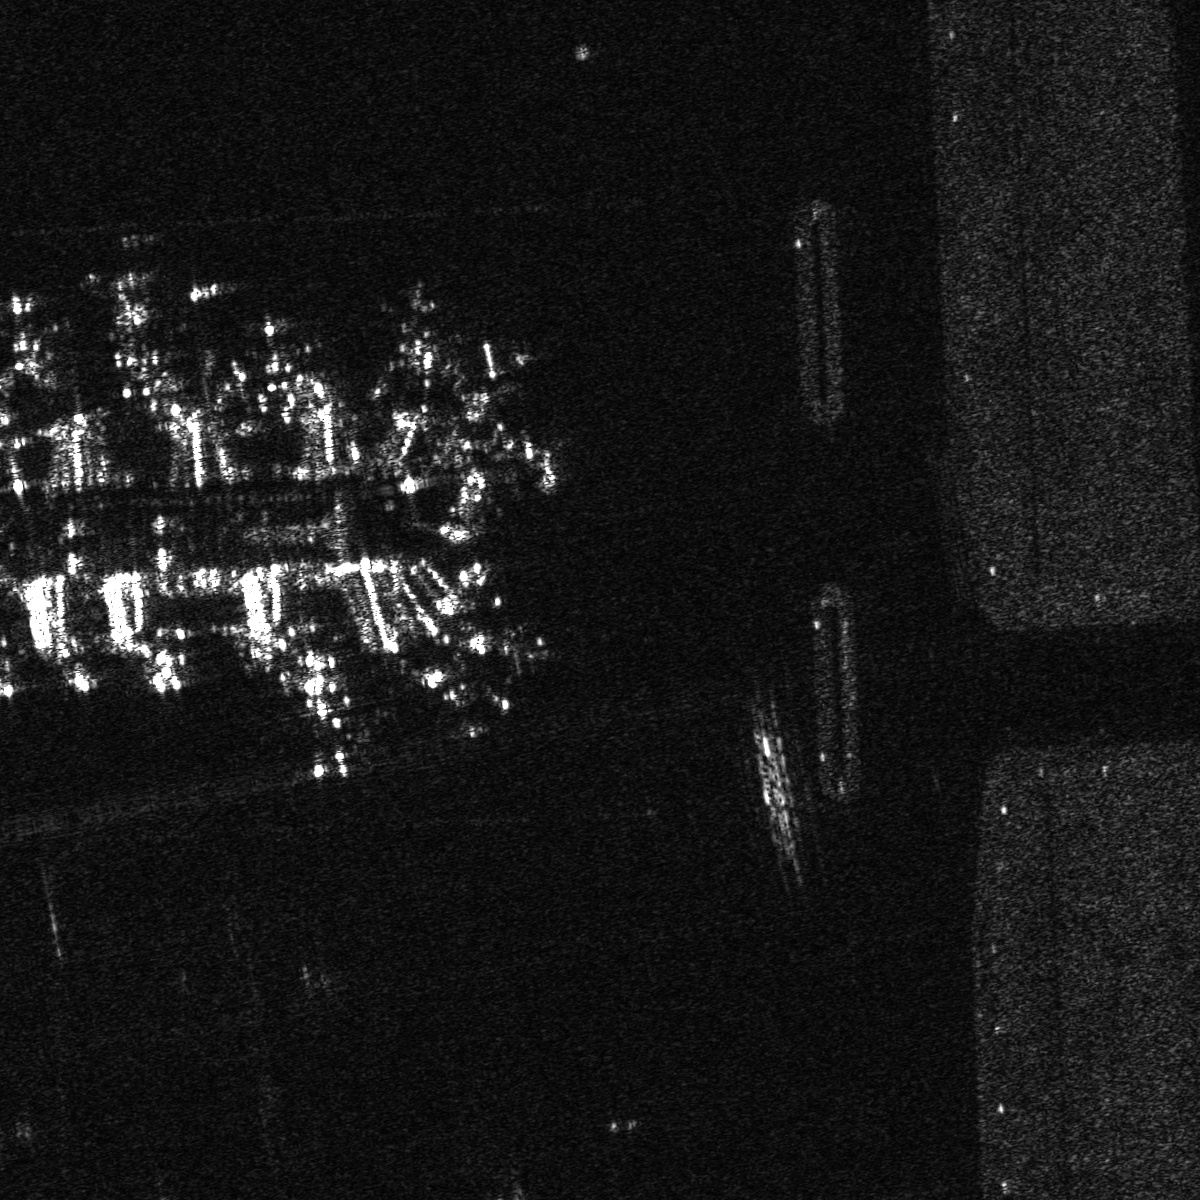A320/321: (263, 665, 380, 780), (90, 266, 192, 375), (366, 284, 478, 380), (226, 315, 316, 397), (458, 616, 562, 677)
Boeing737: (409, 662, 519, 725)
other: (1, 289, 81, 388)
